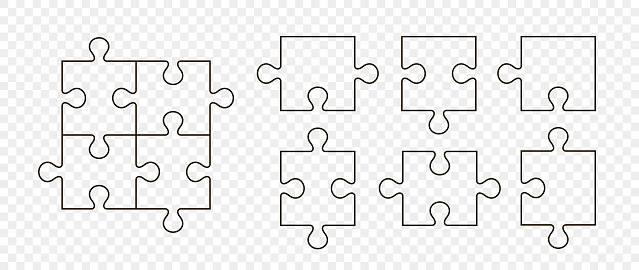puzzle piece: (502, 122, 608, 254), (264, 23, 383, 130), (376, 142, 502, 242), (271, 119, 362, 252), (391, 27, 486, 139), (505, 25, 604, 129)
